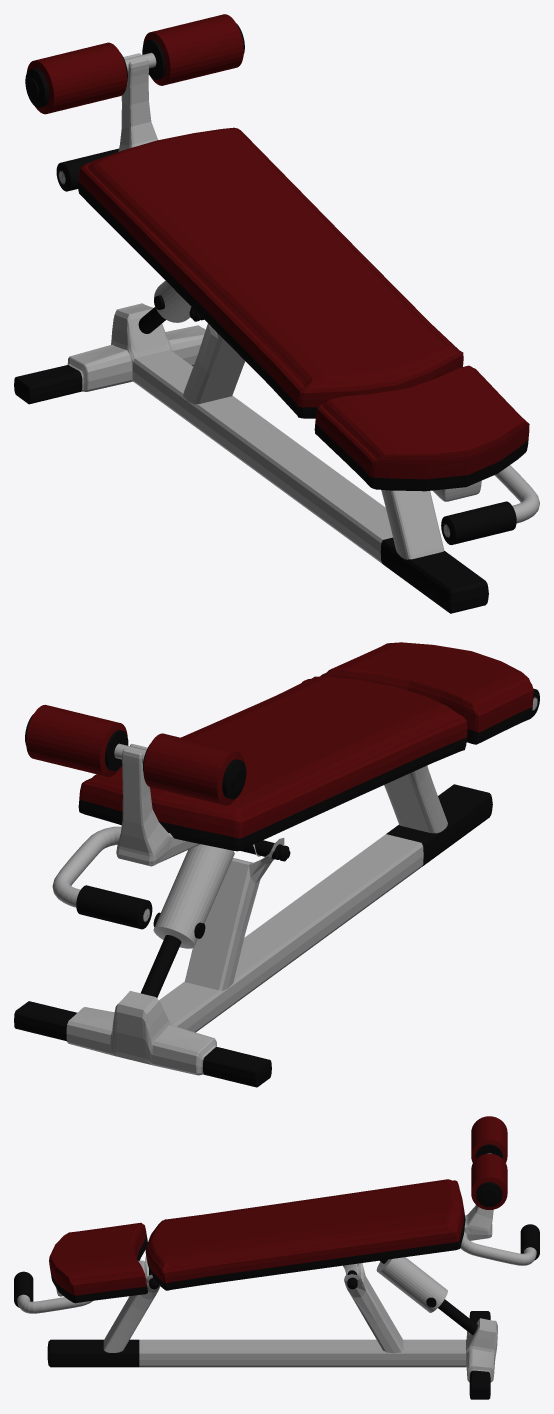
Rendered from abdominalBench.obj.
3 views of the same model, one above another, from view 1: azimuth 30°, elevation 25°; view 2: azimuth 150°, elevation 25°; view 3: azimuth 270°, elevation 25° (orthographic). The views are drawn at different scales.
Visible parts, largest first — view 1: Cube.032_Cube.048, Cube.025_Cube.041, Cube.031_Cube.047, Cylinder.120_Cylinder.140, Cylinder.121_Cylinder.141, Cube.029_Cube.045, Cube.026_Cube.042, Cube.028_Cube.044, Cylinder.125_Cylinder.145, Cylinder.122_Cylinder.142; view 2: Cube.032_Cube.048, Cube.025_Cube.041, Cylinder.120_Cylinder.140, Cube.031_Cube.047, Cube.026_Cube.042, Cylinder.125_Cylinder.145, Cube.028_Cube.044, Cylinder.122_Cylinder.142, Cube.029_Cube.045, Cylinder.124_Cylinder.144; view 3: Cube.032_Cube.048, Cube.025_Cube.041, Cube.031_Cube.047, Cylinder.120_Cylinder.140, Cylinder.125_Cylinder.145, Cube.026_Cube.042, Cube.029_Cube.045, Cylinder.122_Cylinder.142, Cylinder.121_Cylinder.141, Cube.028_Cube.044.
Part boxes in pixels (<box>): Cube.032_Cube.048: <box>78,127,463,418</box>; Cube.025_Cube.041: <box>14,303,488,613</box>; Cube.031_Cube.047: <box>314,365,529,491</box>; Cylinder.120_Cylinder.140: <box>25,14,244,114</box>; Cylinder.121_Cylinder.141: <box>441,465,539,544</box>; Cube.029_Cube.045: <box>381,490,444,559</box>; Cube.026_Cube.042: <box>183,323,245,404</box>; Cube.028_Cube.044: <box>118,53,158,151</box>; Cylinder.125_Cylinder.145: <box>138,280,191,333</box>; Cylinder.122_Cylinder.142: <box>56,148,118,191</box>; Cube.032_Cube.048: <box>78,676,467,851</box>; Cube.025_Cube.041: <box>14,784,492,1087</box>; Cylinder.120_Cylinder.140: <box>25,704,246,805</box>; Cube.031_Cube.047: <box>320,642,533,744</box>; Cube.026_Cube.042: <box>185,838,284,990</box>; Cylinder.125_Cylinder.145: <box>141,844,234,998</box>; Cube.028_Cube.044: <box>116,744,200,866</box>; Cylinder.122_Cylinder.142: <box>52,826,152,929</box>; Cube.029_Cube.045: <box>384,765,447,833</box>; Cylinder.124_Cylinder.144: <box>240,840,290,861</box>; Cube.032_Cube.048: <box>145,1179,465,1290</box>; Cube.025_Cube.041: <box>47,1311,497,1399</box>; Cube.031_Cube.047: <box>49,1222,147,1303</box>; Cylinder.120_Cylinder.140: <box>471,1116,507,1209</box>; Cylinder.125_Cylinder.145: <box>376,1257,477,1335</box>; Cube.026_Cube.042: <box>344,1263,403,1353</box>; Cube.029_Cube.045: <box>103,1256,160,1352</box>; Cylinder.122_Cylinder.142: <box>460,1224,539,1265</box>; Cylinder.121_Cylinder.141: <box>14,1271,93,1313</box>; Cube.028_Cube.044: <box>464,1205,493,1240</box>.
Bounding box in the file's own units: 67.2 × 86.94 × 193.
